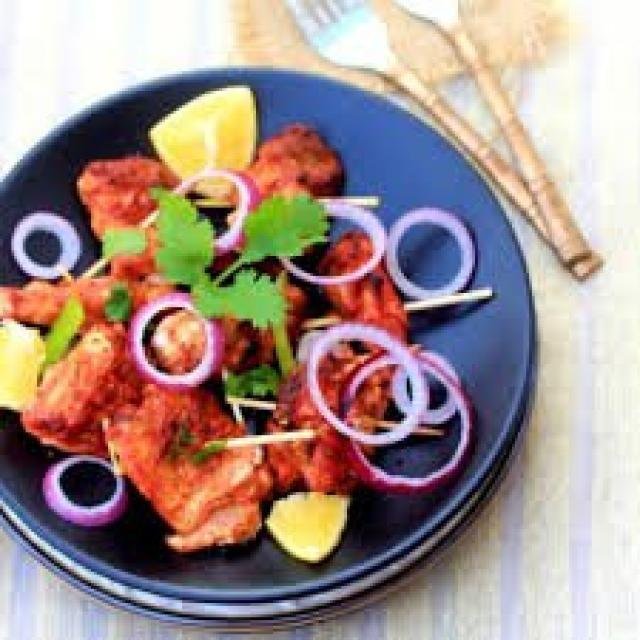Chicken Tikka: (2, 119, 411, 557)
